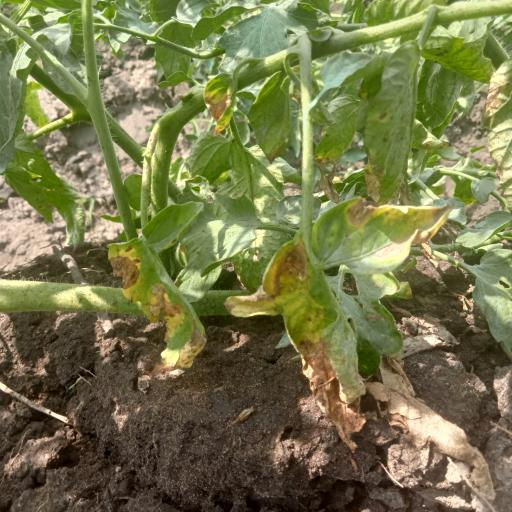Tomato_Brown_Spots: (242, 198, 446, 428), (106, 192, 218, 386)
